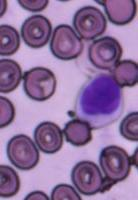L: (73, 72, 123, 127)
